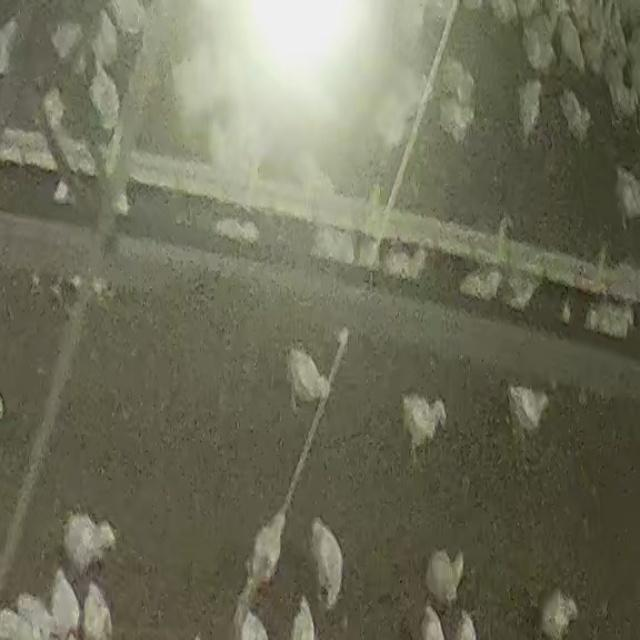chicken: (308, 522, 348, 610), (62, 512, 116, 571), (252, 510, 287, 587), (285, 346, 327, 410), (401, 392, 445, 453), (86, 62, 122, 132), (423, 549, 468, 603), (50, 569, 81, 640), (512, 372, 545, 436), (517, 77, 544, 141), (561, 90, 591, 142), (94, 8, 117, 75)
